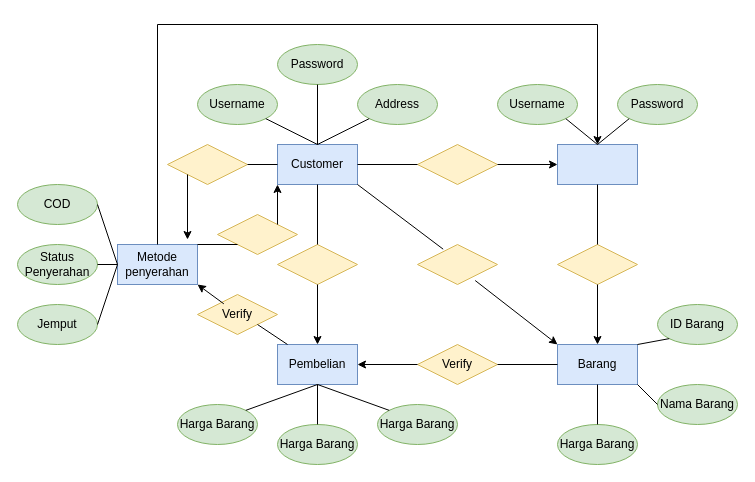
This 755x482 diagram has some shape labels left out. Each missing label, with the centre of its shape:
"Admin" goes at (x=597, y=164).
"Bayar" goes at (x=207, y=164).
"Input Data" goes at (x=457, y=164).
"Melihat" goes at (x=457, y=264).
"Membeli" goes at (x=317, y=264).
"Mensuplai" goes at (x=597, y=264).
"Penyerahan" goes at (x=257, y=234).
